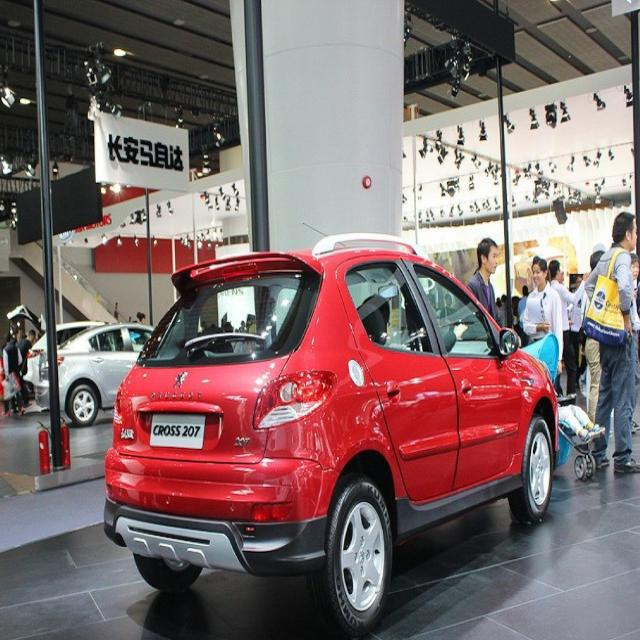back_glass: (135, 266, 321, 368)
back_left_side_light: (109, 382, 126, 428)
back_right_side_light: (252, 366, 334, 435)
door: (338, 259, 460, 501)
front_right_side_door: (402, 250, 522, 498)
front_right_side_mirror: (499, 325, 521, 364)
rear_bumper: (101, 444, 335, 574)
wheel: (322, 480, 391, 634), (521, 417, 554, 517)
